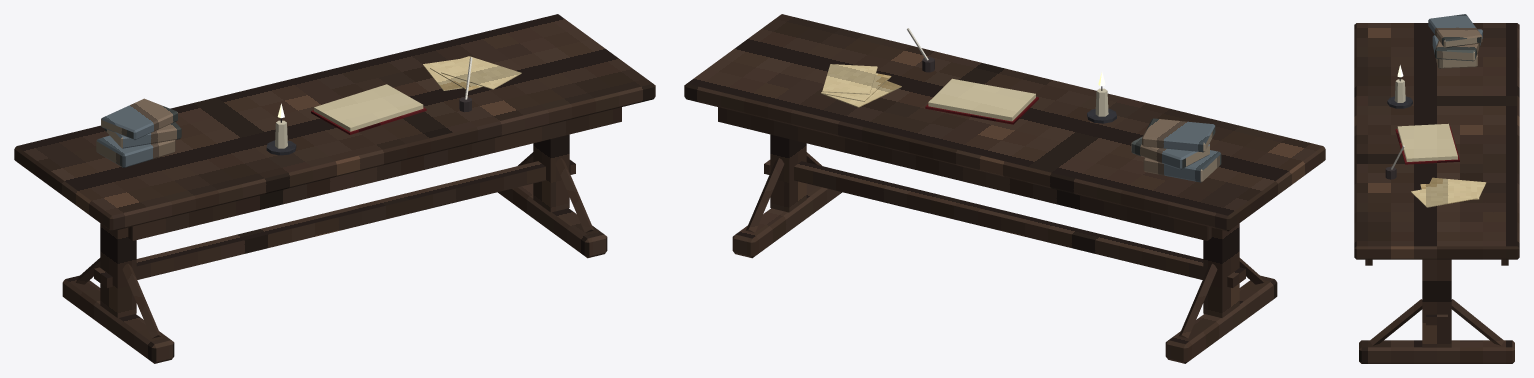
Rendered from long_table.glb.
The picture shows the model from 3 angles, left to right: view 1: azimuth 30°, elevation 25°; view 2: azimuth 150°, elevation 25°; view 3: azimuth 270°, elevation 25°; orthographic projection. The views are drawn at different scales.
Visible parts, largest first — view 1: body; view 2: body; view 3: body.
Part boxes in pixels (x1=…): body: x1=14, y1=14, x2=655, y2=363; body: x1=684, y1=14, x2=1325, y2=363; body: x1=1354, y1=14, x2=1519, y2=363.
Size of the model in its own units: 2.9 by 1.05 by 0.9.
11 materials, 8 textured.
